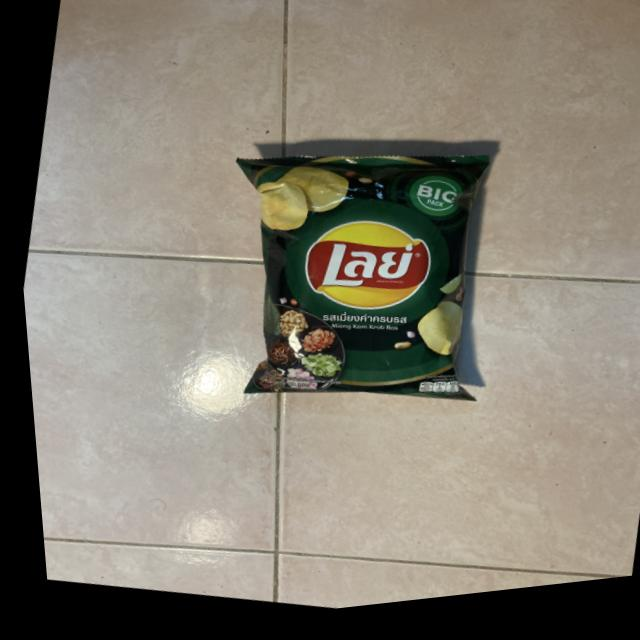Laygreen: (181, 71, 552, 487)
